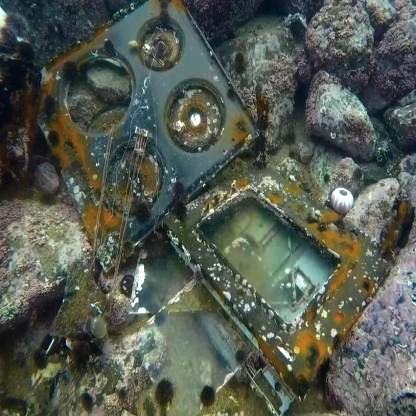electronics: (193, 138, 366, 408), (65, 42, 258, 232)
